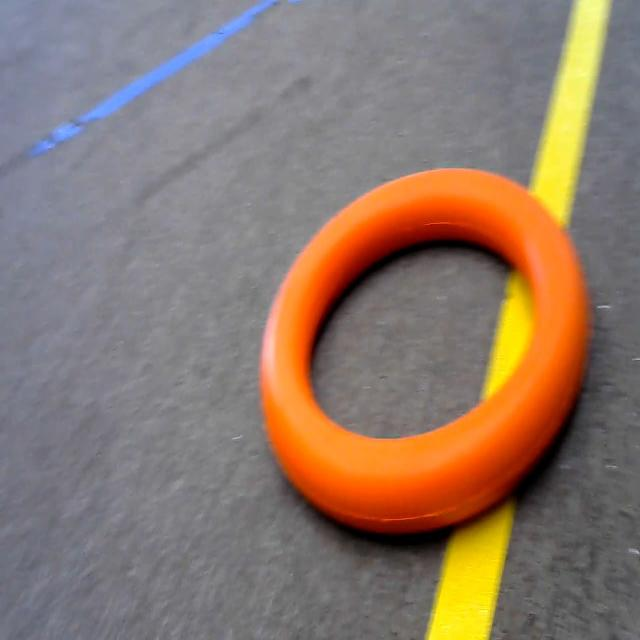note: (252, 158, 600, 545)
